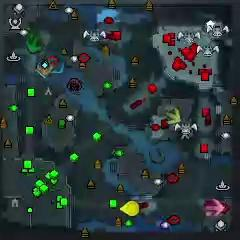Other: (35, 58, 56, 79)
p4: (120, 200, 140, 216)
x1: (205, 198, 224, 217)
x2: (165, 107, 181, 124)
x4: (26, 34, 43, 53)
